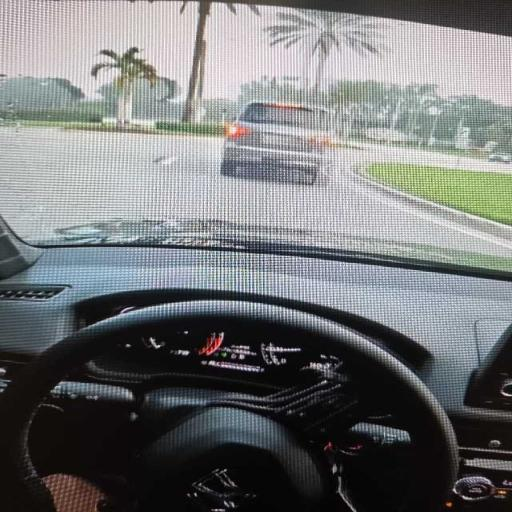car: (0, 0, 511, 511), (220, 103, 335, 184), (488, 154, 511, 163)
lane: (0, 129, 510, 255)
